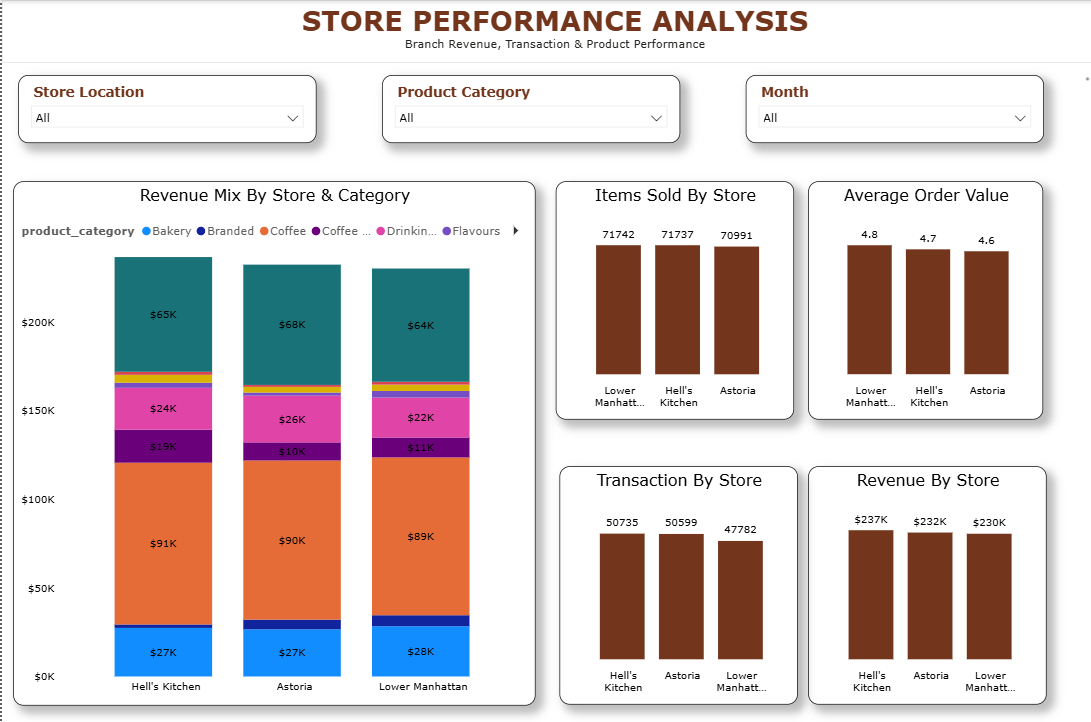

The page's visual inventory and layout, read from the dashboard file:
{"tool":"powerbi","page":{"name":"Store Analysis","canvas":[1280,850],"ordinal":2},"visuals":[{"type":"clusteredColumnChart","title":"Revenue By Store","fields":{"Category":["Coffee_Shop_Sales.store_location"],"Y":["Measures (3).Total Revenue"]},"box":[947.2,547.8,280,280],"z":0},{"type":"clusteredColumnChart","title":"Transaction By Store","fields":{"Category":["Coffee_Shop_Sales.store_location"],"Y":["Measures (3).Total Transactions"]},"box":[655,547.8,280,280],"z":1000},{"type":"clusteredColumnChart","title":"Items Sold By Store","fields":{"Category":["Coffee_Shop_Sales.store_location"],"Y":["Measures (3).Total Items Sold"]},"box":[650.6,212.9,280,280],"z":2000},{"type":"clusteredColumnChart","title":"Average Order Value","fields":{"Category":["Coffee_Shop_Sales.store_location"],"Y":["Measures (3).Average Order Value"]},"box":[947.2,212.9,276.2,279.9],"z":3000},{"type":"columnChart","title":"Revenue Mix By Store & Category","fields":{"Category":["Coffee_Shop_Sales.store_location"],"Series":["Coffee_Shop_Sales.product_category"],"Y":["Measures (3).Total Revenue"]},"box":[13.2,212.9,613.3,615.8],"z":4000},{"type":"textbox","box":[0,0,1299.7,74.9],"z":5000},{"type":"slicer","fields":{"Values":["Coffee_Shop_Sales.store_location"]},"box":[19.1,88.1,350,80],"z":6000},{"type":"slicer","fields":{"Values":["DateTable.Month"]},"box":[873.8,88.1,350,80],"z":6001},{"type":"slicer","fields":{"Values":["Coffee_Shop_Sales.product_category"]},"box":[446.4,88.1,350,80],"z":6002}]}

Visuals, with their boxes in screenshot pixels (x1, y1, x2, y2), scaled from the page's 1280x850 canvas onto the 1091x722 screenshot:
"Revenue By Store" clusteredColumnChart: bbox(807, 465, 1046, 703)
"Transaction By Store" clusteredColumnChart: bbox(558, 465, 797, 703)
"Items Sold By Store" clusteredColumnChart: bbox(555, 181, 793, 419)
"Average Order Value" clusteredColumnChart: bbox(807, 181, 1043, 419)
"Revenue Mix By Store & Category" columnChart: bbox(11, 181, 534, 704)
textbox: bbox(0, 0, 1090, 64)
slicer - Coffee_Shop_Sales.store_location: bbox(16, 75, 315, 143)
slicer - DateTable.Month: bbox(745, 75, 1043, 143)
slicer - Coffee_Shop_Sales.product_category: bbox(380, 75, 679, 143)
